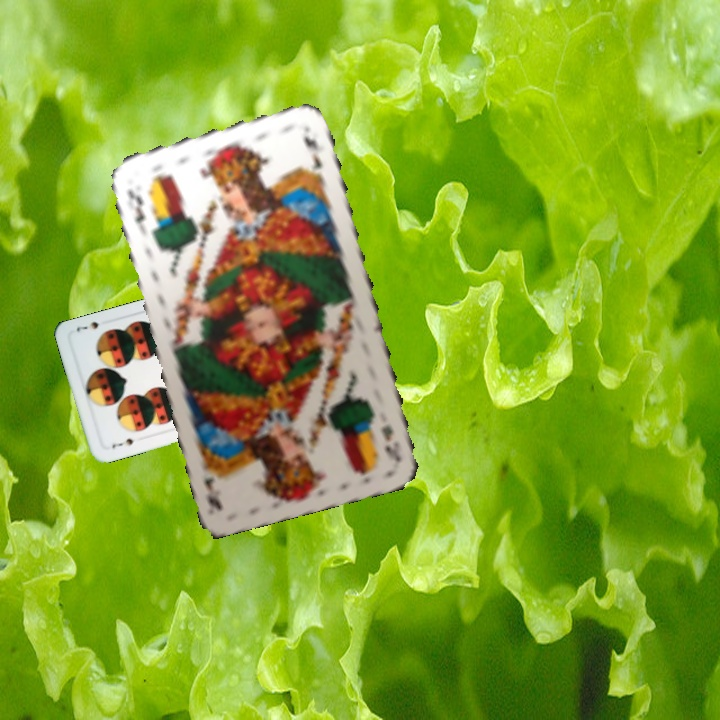EK: (123, 185, 148, 231), (377, 420, 403, 463)
S7: (108, 434, 136, 451)
